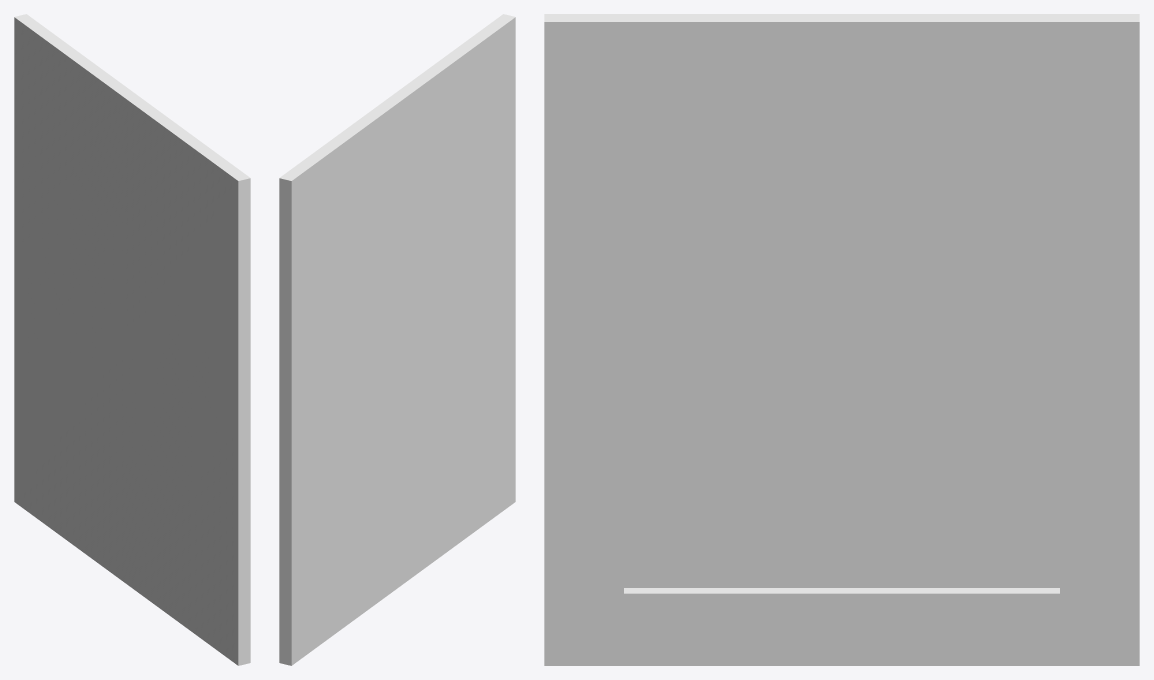
Rendered from front_bottom_keretes_60_l.glb.
3 renders of one model, left to right at view 1: azimuth 30°, elevation 25°; view 2: azimuth 150°, elevation 25°; view 3: azimuth 270°, elevation 25°, orthographic. The views are drawn at different scales.
Parts seen in each view (by area): view 1: front_bottom_keretes_60_L; view 2: front_bottom_keretes_60_L; view 3: front_bottom_keretes_60_L.
Part boxes in pixels (x1,y1,x2,y2): front_bottom_keretes_60_L: (14,14,250,665); front_bottom_keretes_60_L: (279,14,515,665); front_bottom_keretes_60_L: (544,14,1139,665).
Size of the model in its own units: 0.019 by 0.711 by 0.596.
1 material, 1 textured.
